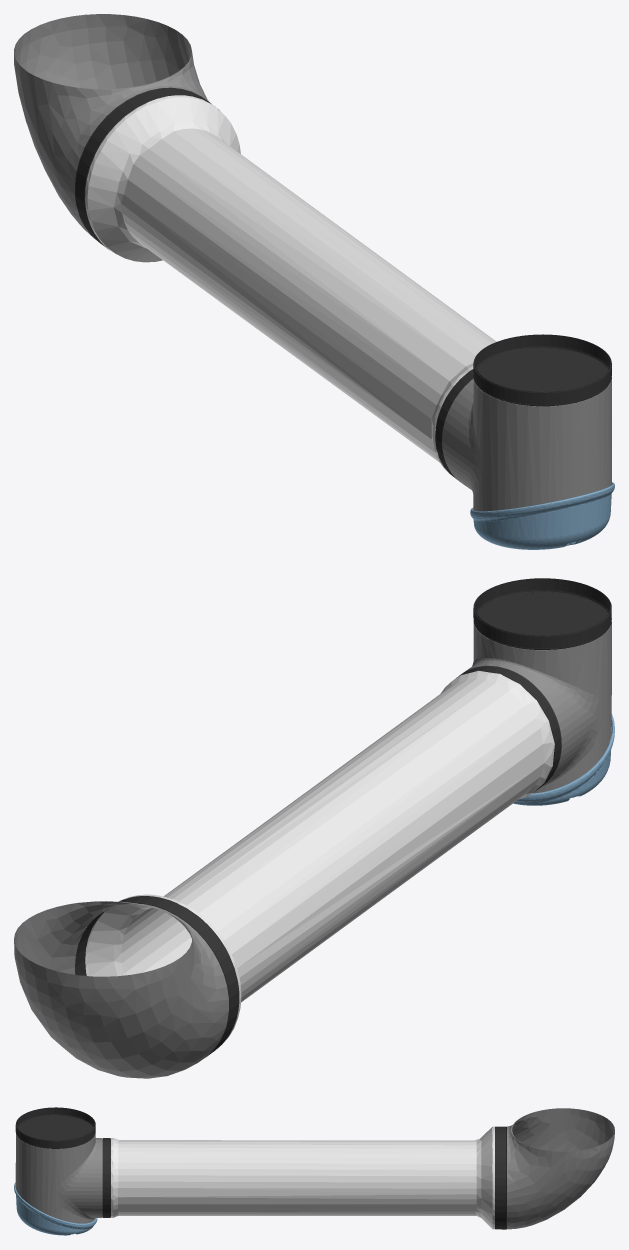
Rendered from forearm.glb.
3 views of the same model, one above another, from view 1: azimuth 30°, elevation 25°; view 2: azimuth 150°, elevation 25°; view 3: azimuth 270°, elevation 25° (orthographic). The views are drawn at different scales.
Visible parts, largest first — view 1: eSeries_UR10e_031, eSeries_UR10e_015, eSeries_UR10e_018, eSeries_UR10e_020, eSeries_UR10e_017, eSeries_UR10e_016, eSeries_UR10e_019; view 2: eSeries_UR10e_031, eSeries_UR10e_015, eSeries_UR10e_018, eSeries_UR10e_020, eSeries_UR10e_016, eSeries_UR10e_017, eSeries_UR10e_019; view 3: eSeries_UR10e_031, eSeries_UR10e_015, eSeries_UR10e_018, eSeries_UR10e_020, eSeries_UR10e_017, eSeries_UR10e_016, eSeries_UR10e_019.
Boxes of the visible parts, left/top/right/bottom form: eSeries_UR10e_031: left=85, top=95, right=496, bottom=474; eSeries_UR10e_015: left=14, top=14, right=209, bottom=240; eSeries_UR10e_018: left=442, top=378, right=611, bottom=511; eSeries_UR10e_020: left=473, top=334, right=611, bottom=406; eSeries_UR10e_017: left=470, top=482, right=614, bottom=549; eSeries_UR10e_016: left=75, top=87, right=218, bottom=249; eSeries_UR10e_019: left=435, top=369, right=473, bottom=479; eSeries_UR10e_031: left=85, top=670, right=554, bottom=1047; eSeries_UR10e_015: left=14, top=901, right=228, bottom=1078; eSeries_UR10e_018: left=459, top=622, right=611, bottom=793; eSeries_UR10e_020: left=473, top=578, right=611, bottom=649; eSeries_UR10e_016: left=75, top=896, right=239, bottom=1056; eSeries_UR10e_017: left=513, top=714, right=614, bottom=805; eSeries_UR10e_019: left=456, top=666, right=561, bottom=791; eSeries_UR10e_031: left=111, top=1126, right=494, bottom=1229; eSeries_UR10e_015: left=507, top=1108, right=614, bottom=1229; eSeries_UR10e_018: left=15, top=1133, right=102, bottom=1223; eSeries_UR10e_020: left=15, top=1107, right=95, bottom=1148; eSeries_UR10e_017: left=14, top=1182, right=97, bottom=1235; eSeries_UR10e_016: left=495, top=1126, right=506, bottom=1229; eSeries_UR10e_019: left=102, top=1138, right=110, bottom=1217.
Bounding box in the file's own units: 0.116 × 0.1249 × 0.6764.
